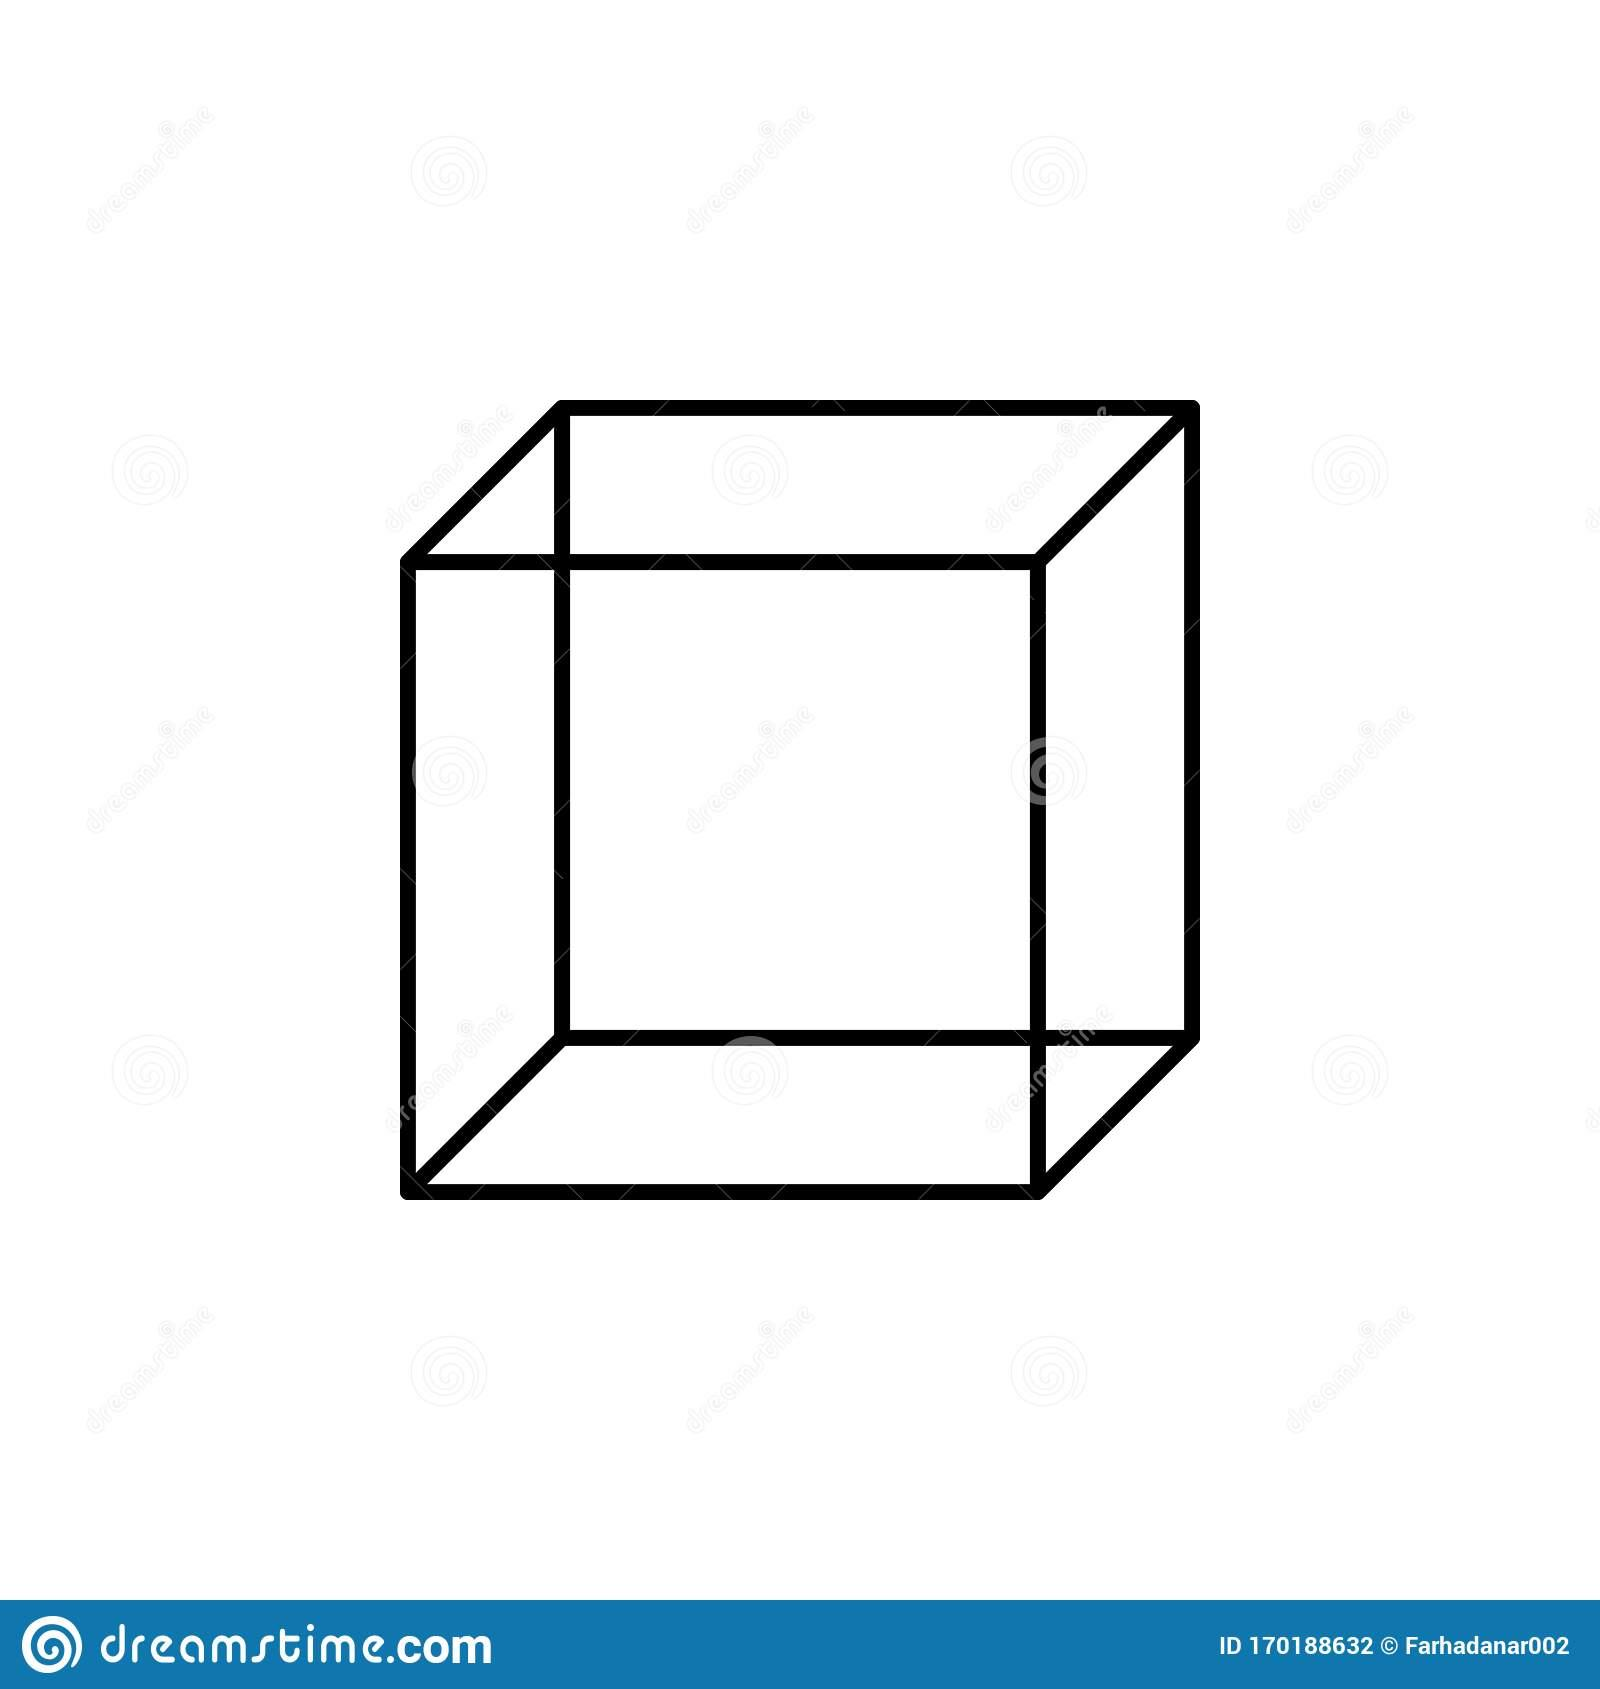cubos: (370, 340, 1241, 1205)
